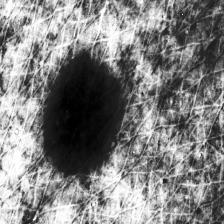Benign Marking or Mole: (45, 54, 121, 176)
